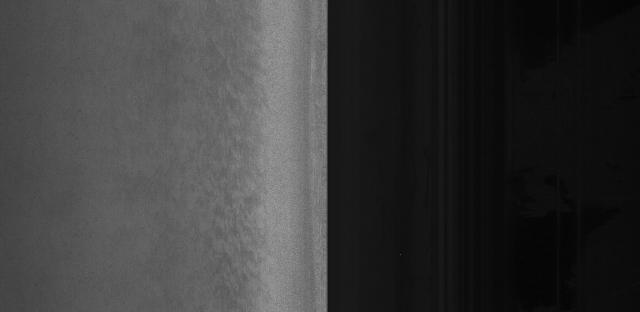silk_spot: (179, 72, 275, 253)
